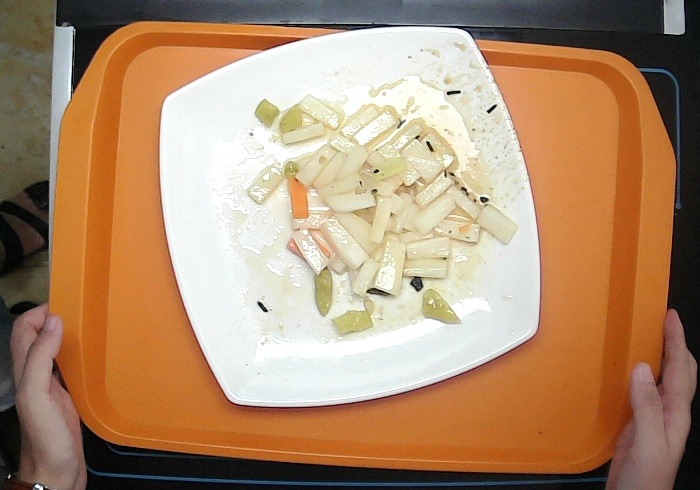ZNLD-Bai_Fang_Pan: (154, 24, 545, 412)
